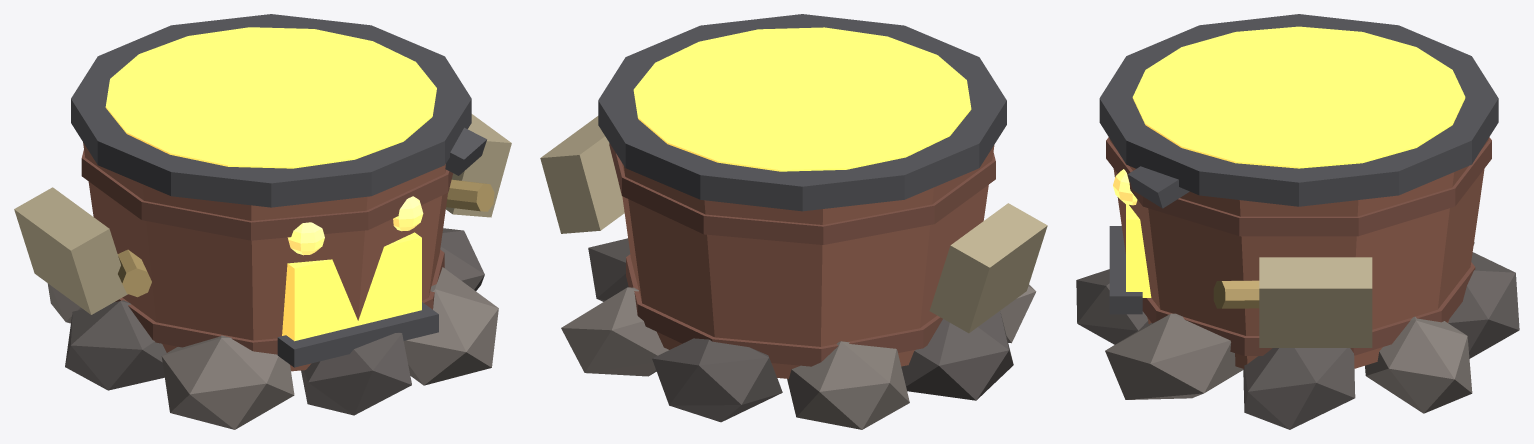
The model's file is foundry_heart.glb.
The picture shows the model from 3 angles, left to right: view 1: azimuth 30°, elevation 25°; view 2: azimuth 150°, elevation 25°; view 3: azimuth 270°, elevation 25°; orthographic projection. The views are drawn at different scales.
Parts seen in each view (by area): view 1: foundry_heart; view 2: foundry_heart; view 3: foundry_heart.
Part boxes in pixels (bbox=[...]): foundry_heart: bbox=[14, 14, 511, 429]; foundry_heart: bbox=[540, 14, 1047, 429]; foundry_heart: bbox=[1076, 14, 1519, 429].
Size of the model in its own units: 1.52 by 0.8337 by 1.33.
